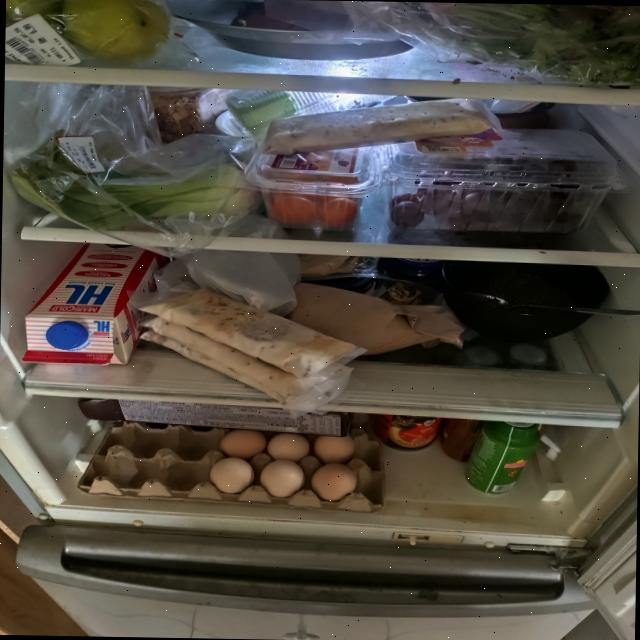apple: (60, 0, 172, 65)
egg: (77, 420, 386, 514)
grape: (389, 154, 586, 233)
pakchoy: (6, 147, 258, 233)
tempeh: (132, 286, 358, 406), (263, 94, 498, 160)
